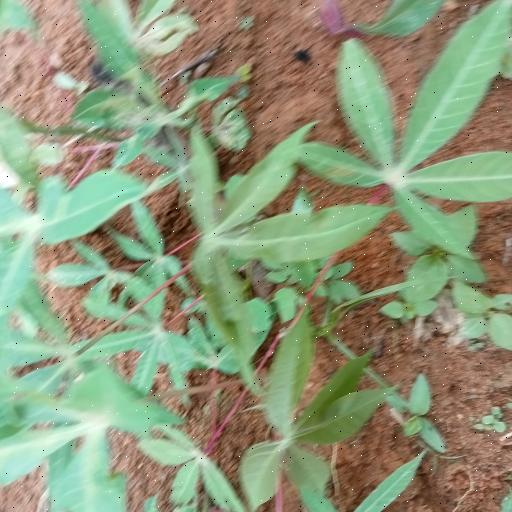Cassava_Mosaic: (299, 30, 512, 251), (188, 143, 358, 333), (252, 333, 394, 502)
